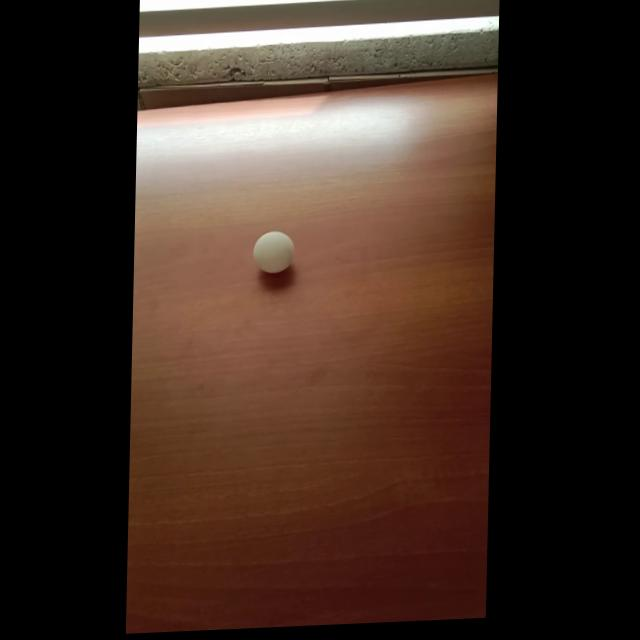white ball: (252, 229, 295, 274)
